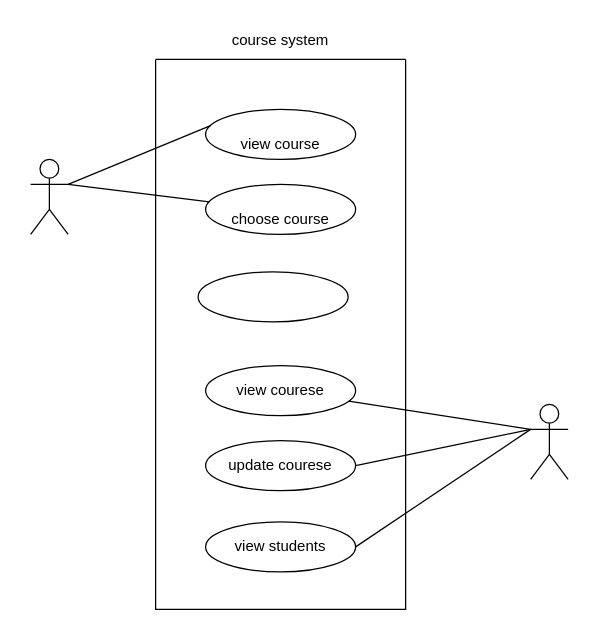
Some shapes in this 598 by 631 pixel diagram are drawn without their labels. The centre of each missing label's shape, as x and y in pixels:
drop course: point (272, 296)
lectures: point (548, 441)
students: point (48, 196)
